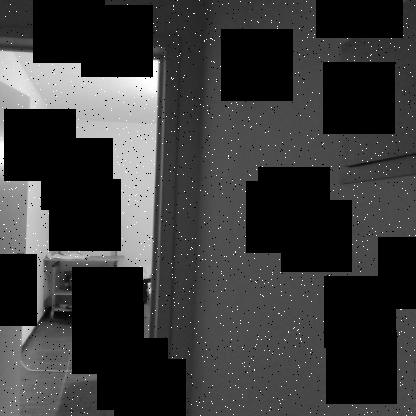Porte: (0, 15, 185, 416)
